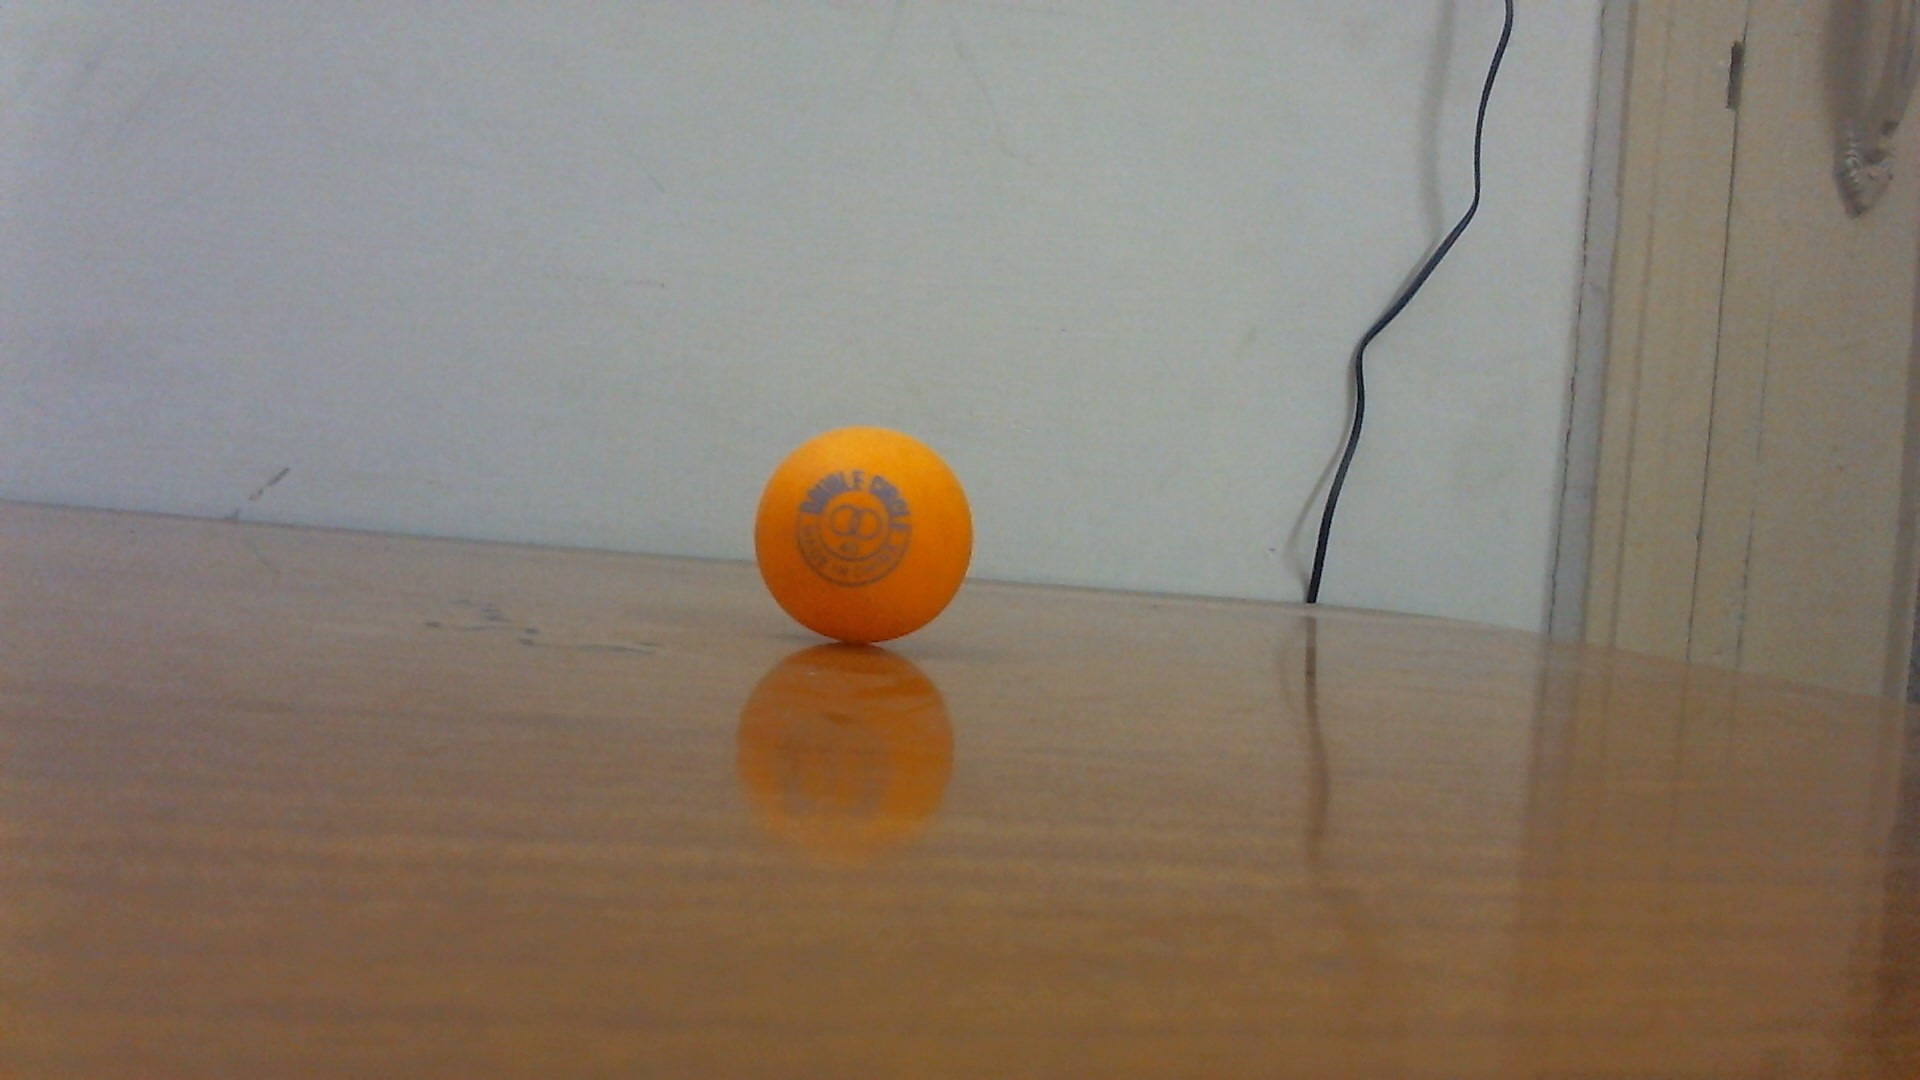ball: (754, 425, 973, 644)
